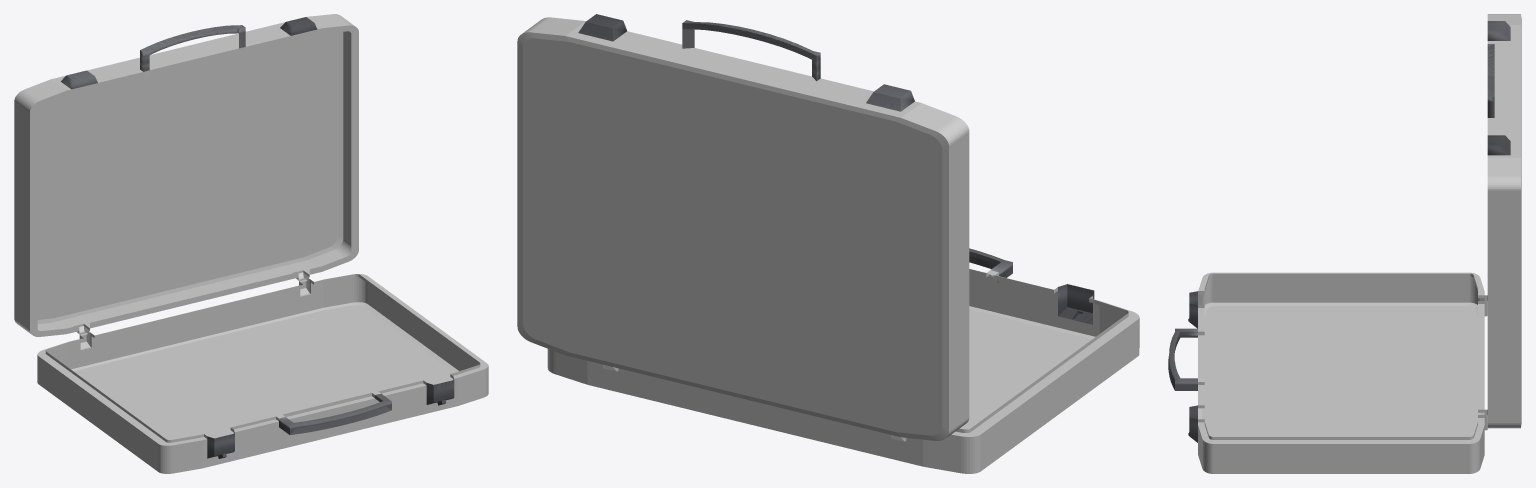
Rendered from bag.fbx.
3 renders of one model, left to right at view 1: azimuth 30°, elevation 25°; view 2: azimuth 150°, elevation 25°; view 3: azimuth 270°, elevation 25°, orthographic. The views are drawn at different scales.
Parts seen in each view (by area): view 1: Cube; view 2: Cube; view 3: Cube.
Part boxes in pixels (box(x1,y1,x2,y2)): Cube: box(14, 14, 488, 473); Cube: box(517, 14, 1139, 473); Cube: box(1168, 14, 1521, 473).
Bounding box in the file's own units: 200 × 177 × 174.
